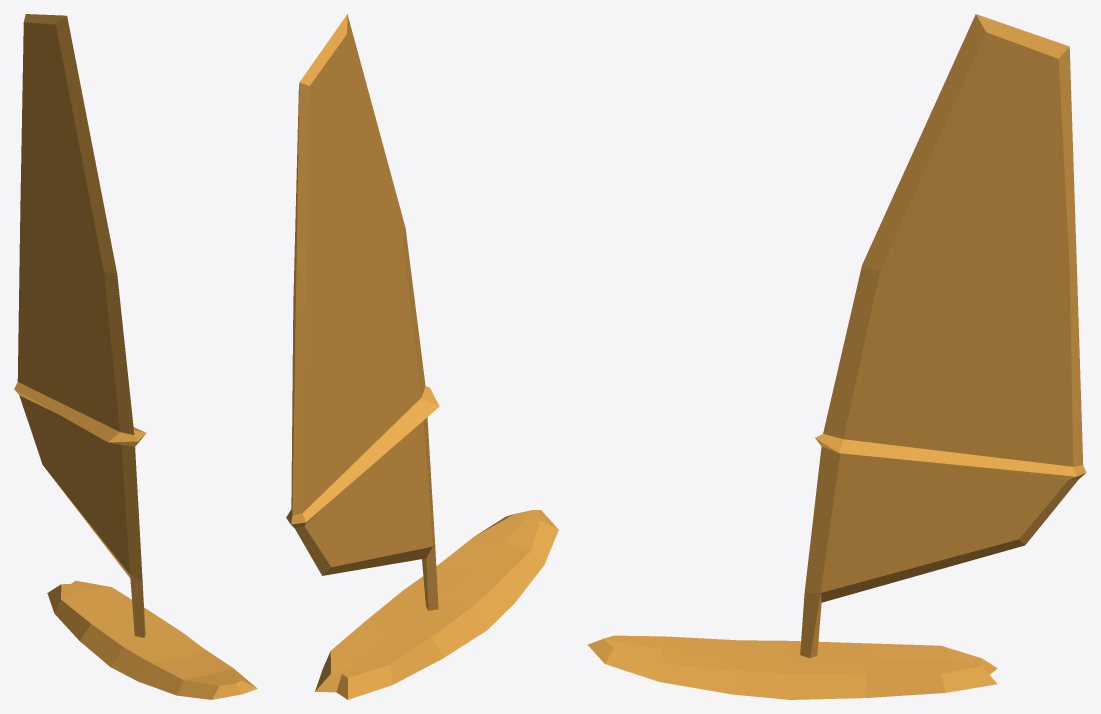
The model's file is windsurf.fbx.
3 renders of one model, left to right at view 1: azimuth 30°, elevation 25°; view 2: azimuth 150°, elevation 25°; view 3: azimuth 270°, elevation 25°, orthographic. The views are drawn at different scales.
Parts seen in each view (by area): view 1: windsurf-sail, windsurf-base; view 2: windsurf-sail, windsurf-base; view 3: windsurf-sail, windsurf-base.
Part boxes in pixels (x1,y1,x2,y2): windsurf-sail: (14,14,146,637); windsurf-base: (47,580,257,699); windsurf-sail: (286,14,439,610); windsurf-base: (315,510,558,699); windsurf-sail: (800,14,1086,658); windsurf-base: (587,635,997,699).
Bounding box in the file's own units: 0.64 × 4.18 × 2.85.
